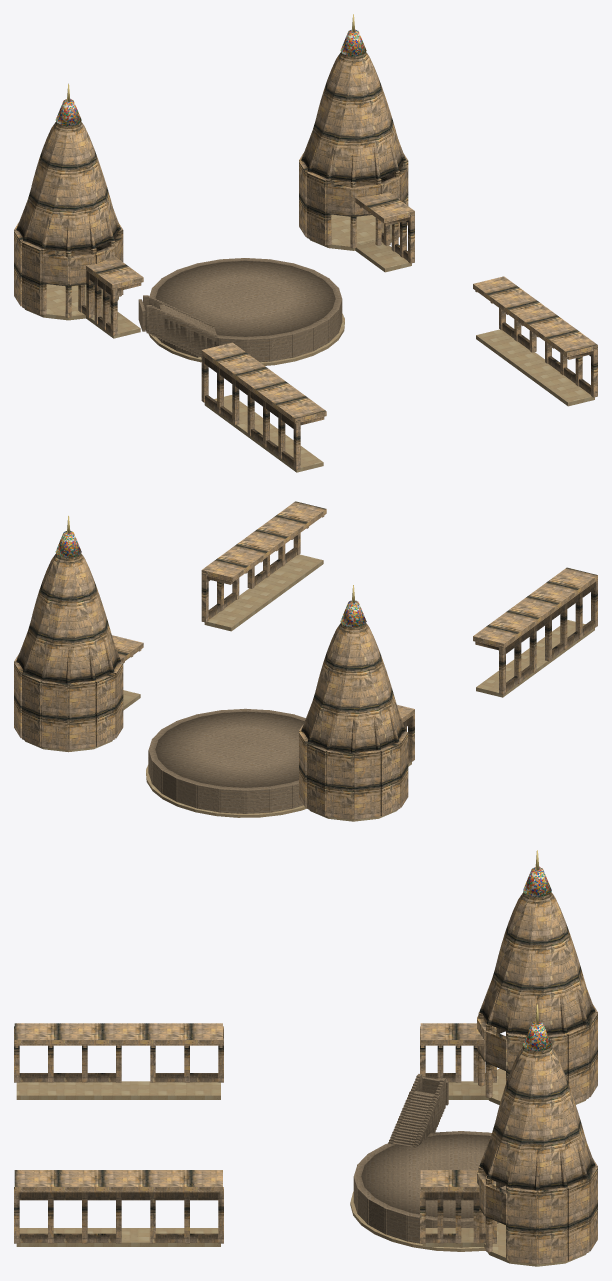
File: cloister_crypt.glb
3 views of the same model, one above another, from view 1: azimuth 30°, elevation 25°; view 2: azimuth 150°, elevation 25°; view 3: azimuth 270°, elevation 25° (orthographic). The views are drawn at different scales.
Visible parts, largest first — view 1: Cloister_And_Sacristies, Crypt_Architecture, Cloister_And_Crypt_Floor, Sacristy_Trencadis; view 2: Cloister_And_Sacristies, Crypt_Architecture, Cloister_And_Crypt_Floor, Sacristy_Trencadis; view 3: Cloister_And_Sacristies, Crypt_Architecture, Cloister_And_Crypt_Floor, Sacristy_Trencadis.
Boxes of the visible parts, left/top/right/bottom form: Cloister_And_Sacristies: left=14, top=52, right=597, bottom=469; Crypt_Architecture: left=138, top=258, right=342, bottom=362; Cloister_And_Crypt_Floor: left=24, top=214, right=594, bottom=472; Sacristy_Trencadis: left=55, top=29, right=366, bottom=125; Cloister_And_Sacristies: left=14, top=501, right=597, bottom=819; Crypt_Architecture: left=148, top=708, right=305, bottom=813; Cloister_And_Crypt_Floor: left=24, top=554, right=594, bottom=821; Sacristy_Trencadis: left=55, top=531, right=366, bottom=626; Cloister_And_Sacristies: left=14, top=892, right=597, bottom=1264; Crypt_Architecture: left=353, top=1074, right=505, bottom=1247; Cloister_And_Crypt_Floor: left=16, top=1068, right=586, bottom=1266; Sacristy_Trencadis: left=523, top=867, right=551, bottom=1050.
Bounding box in the file's own units: 73.27 × 46.6 × 88.06.
Materials: 7 (5 with a texture image).
